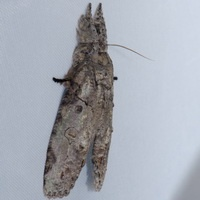insect: (44, 3, 116, 197)
